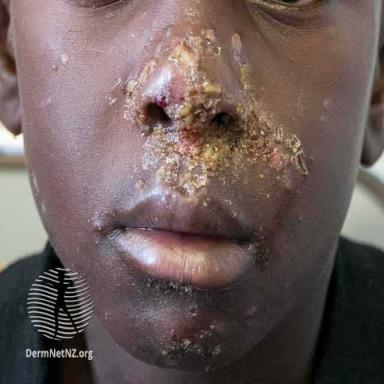Impetigo: (106, 2, 314, 216), (160, 321, 224, 375), (252, 240, 271, 271)
